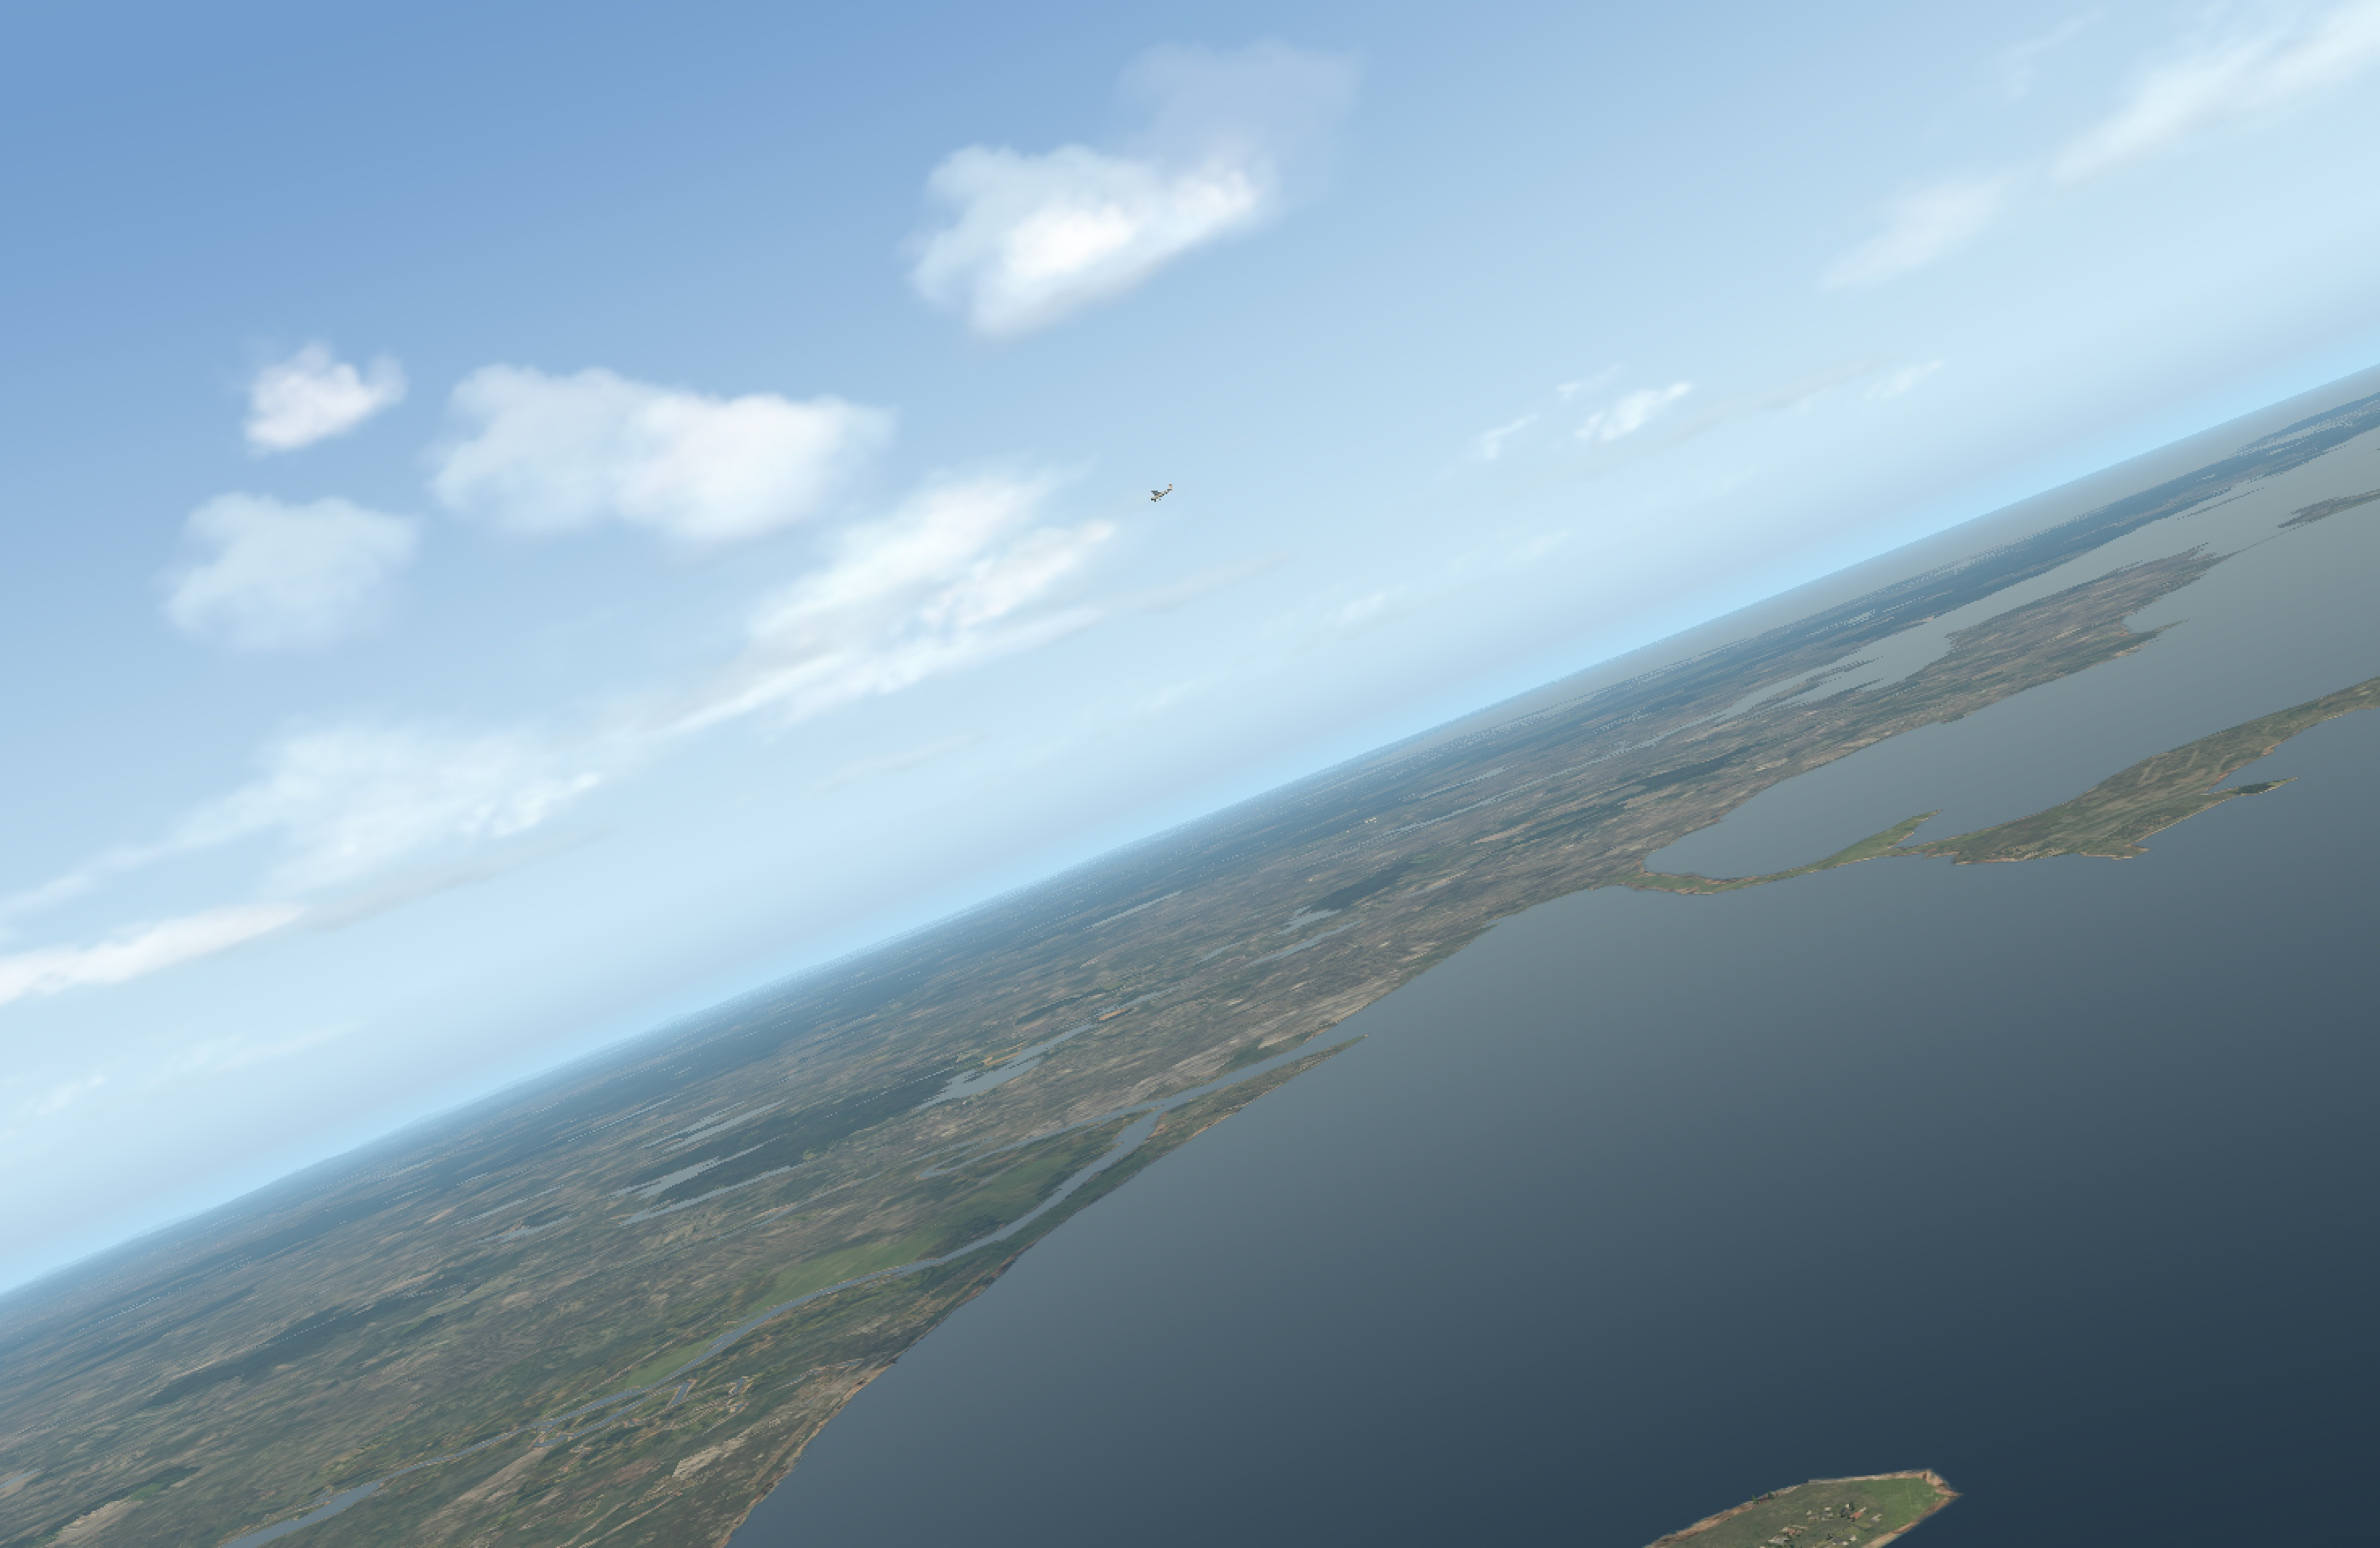aircraft: (1145, 491, 1169, 500)
